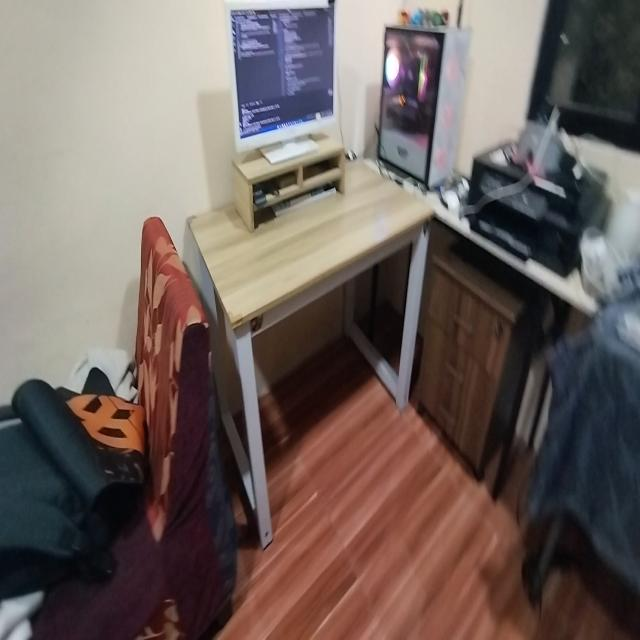table: (194, 143, 434, 496)
